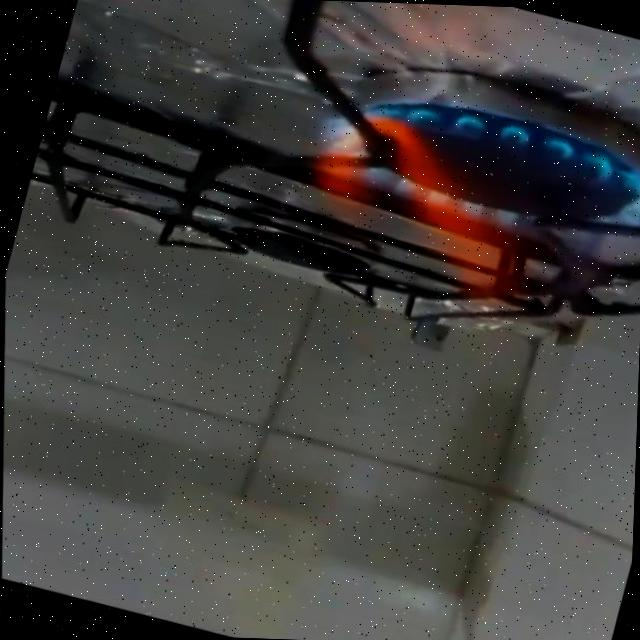fire: (270, 64, 640, 384)
